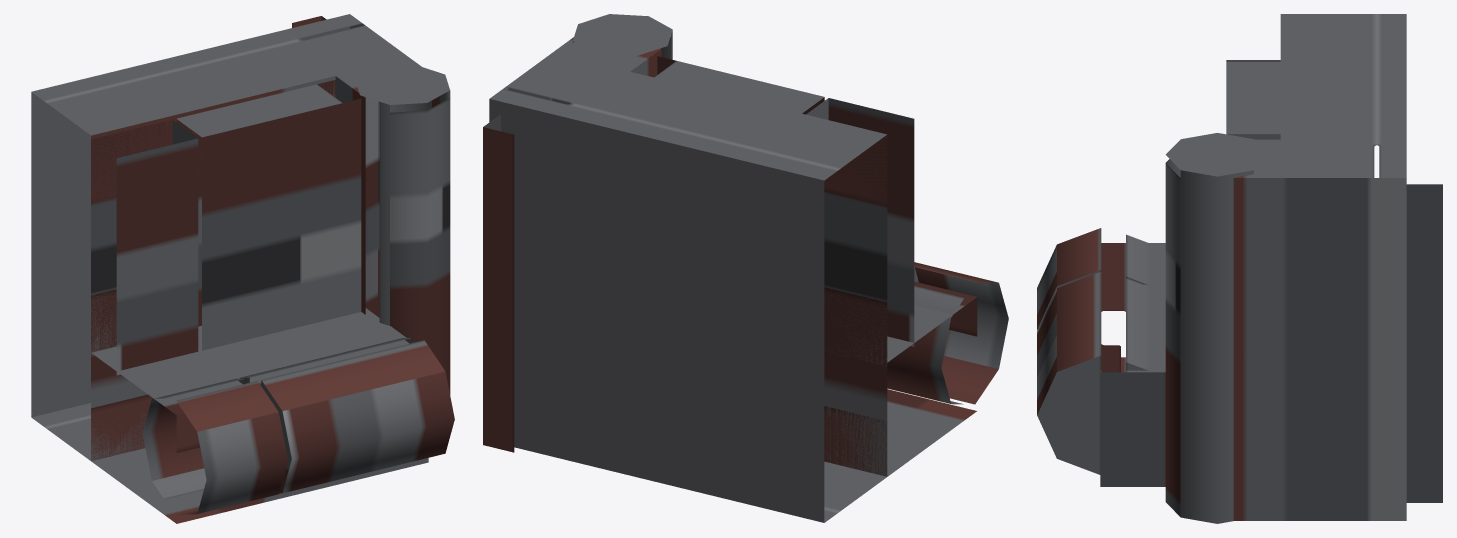
Rendered from section-0.obj.
3 views of the same model, side by side, from view 1: azimuth 30°, elevation 25°; view 2: azimuth 150°, elevation 25°; view 3: azimuth 270°, elevation 25° (orthographic). The views are drawn at different scales.
Bounding box in the file's own units: 0.875 × 0.85 × 0.9.
